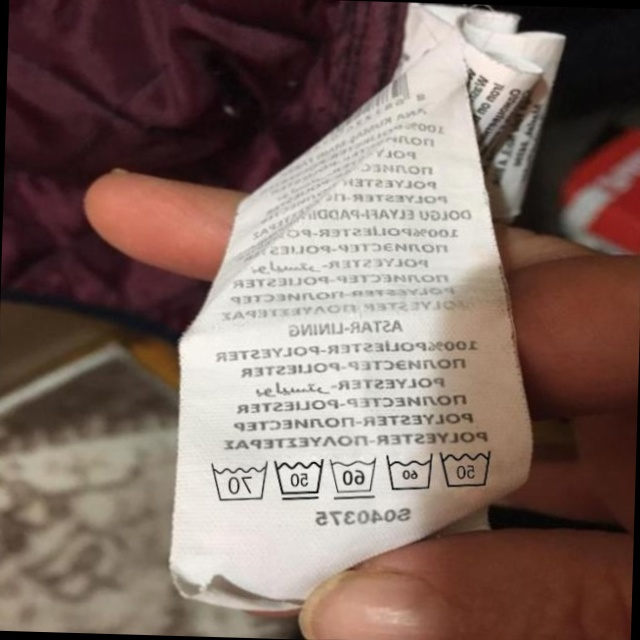50C: (434, 441, 499, 494), (269, 453, 327, 505)
60C: (324, 451, 379, 502), (380, 448, 436, 497)
70C: (203, 457, 269, 505)
